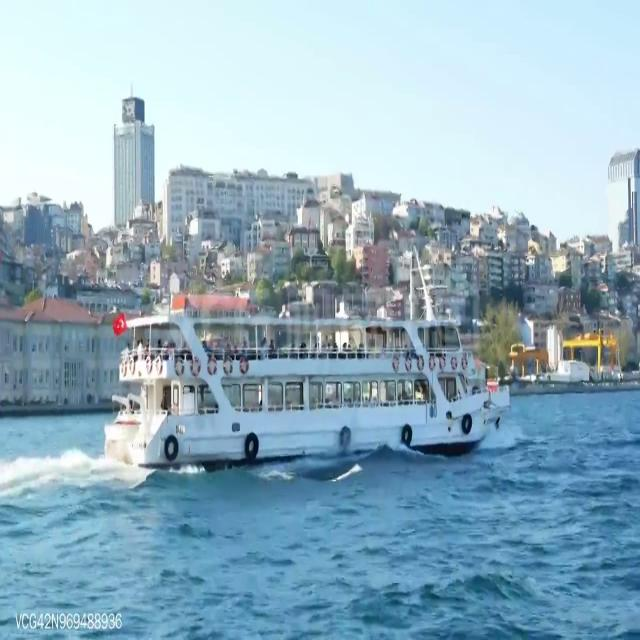passenger ship: (103, 255, 512, 463)
